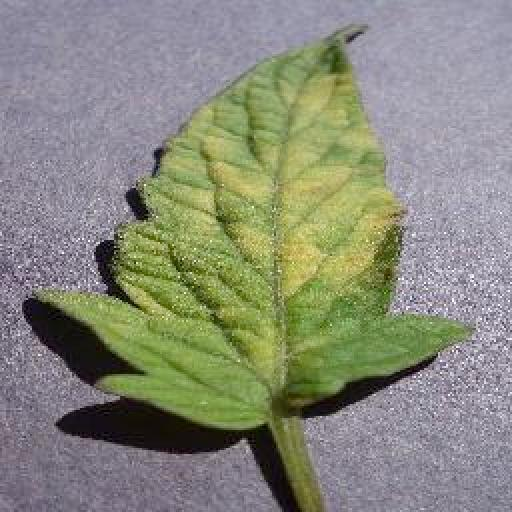disease_tomato: (36, 24, 476, 434)
